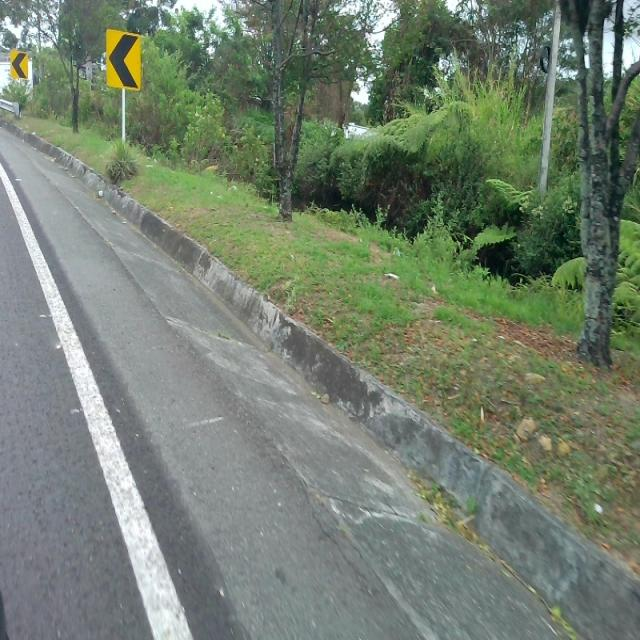DITCH: (1, 1, 638, 638), (2, 118, 638, 638)
